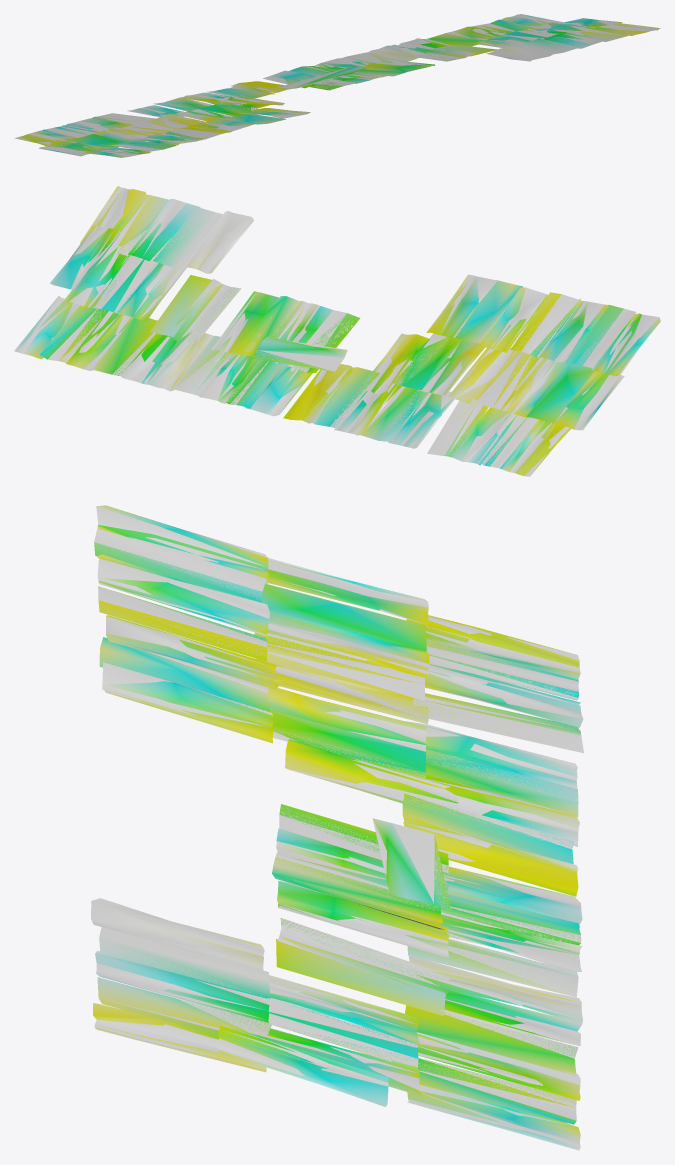
The model's file is SM_MillRoof_NN_05a.FBX.
The picture shows the model from 3 angles, top to bottom: view 1: azimuth 30°, elevation 25°; view 2: azimuth 150°, elevation 25°; view 3: azimuth 270°, elevation 25°; orthographic projection. The views are drawn at different scales.
Visible parts, largest first — view 1: SM_MillRoof_NN_05a_LOD0; view 2: SM_MillRoof_NN_05a_LOD0; view 3: SM_MillRoof_NN_05a_LOD0.
Boxes of the visible parts, x1,y1,x2,y2 form: SM_MillRoof_NN_05a_LOD0: (14, 14, 660, 157); SM_MillRoof_NN_05a_LOD0: (14, 186, 660, 476); SM_MillRoof_NN_05a_LOD0: (91, 505, 583, 1150).
Size of what is drawn, in the model's own units: 2173 by 859 by 280.
